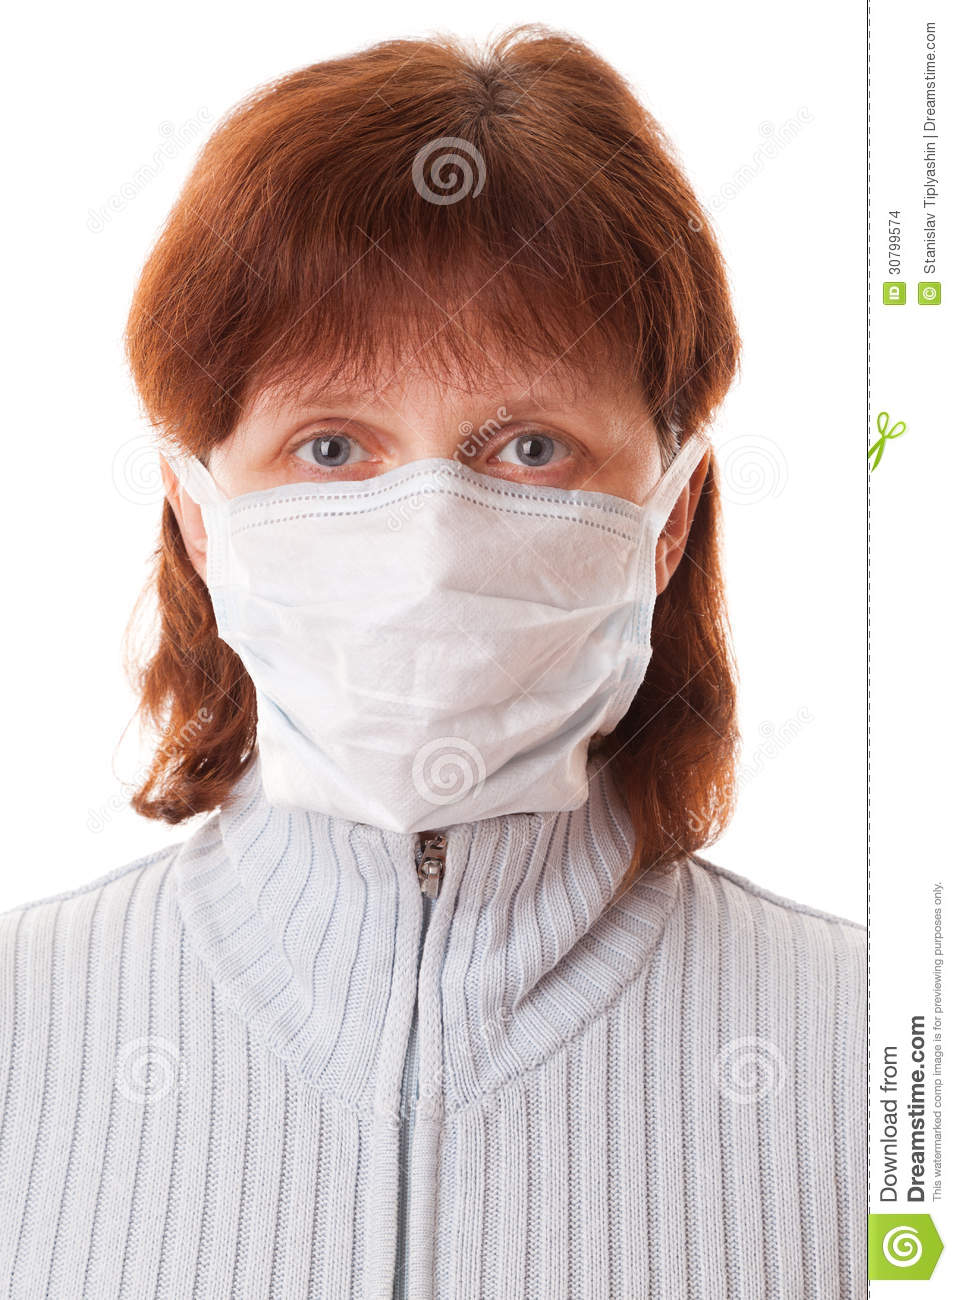mask: (200, 491, 658, 821)
